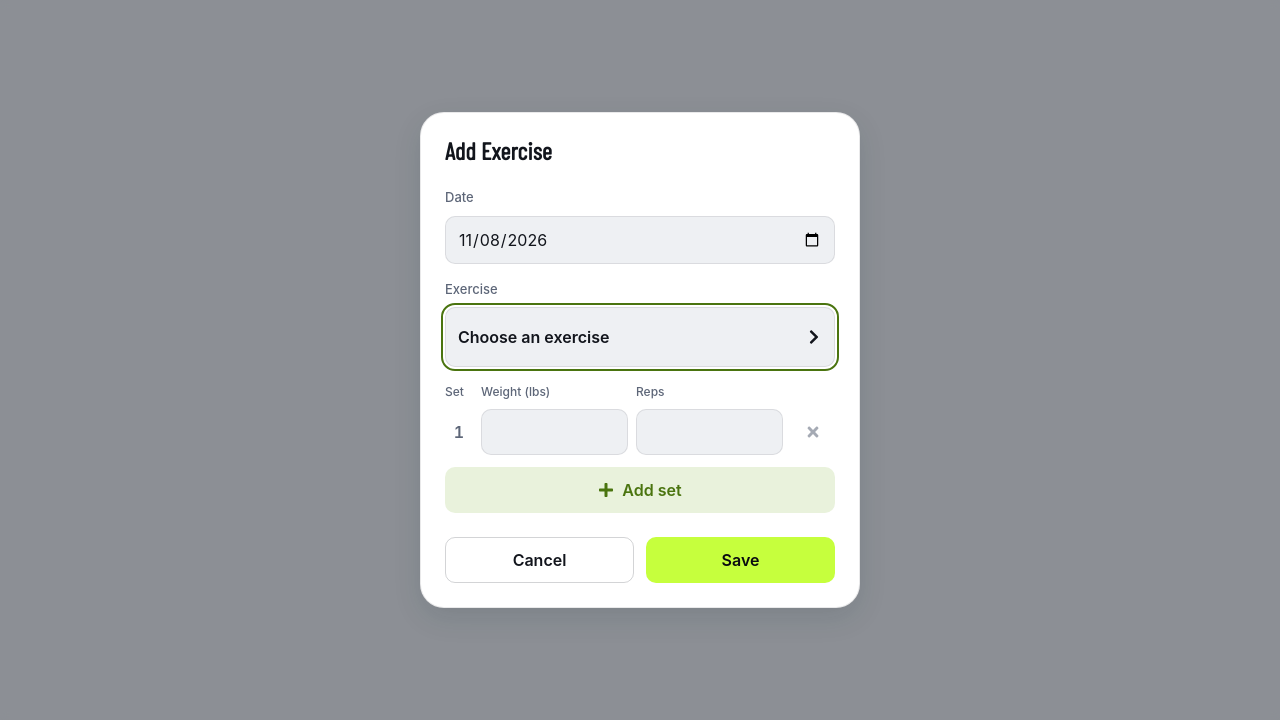
adding › only offers exercises from the list: no way to add a custom one
The image size is (1280, 720).
Click the button "Choose an exercise".
click(534, 337)  # box x1=445 y1=307 x2=835 y2=367
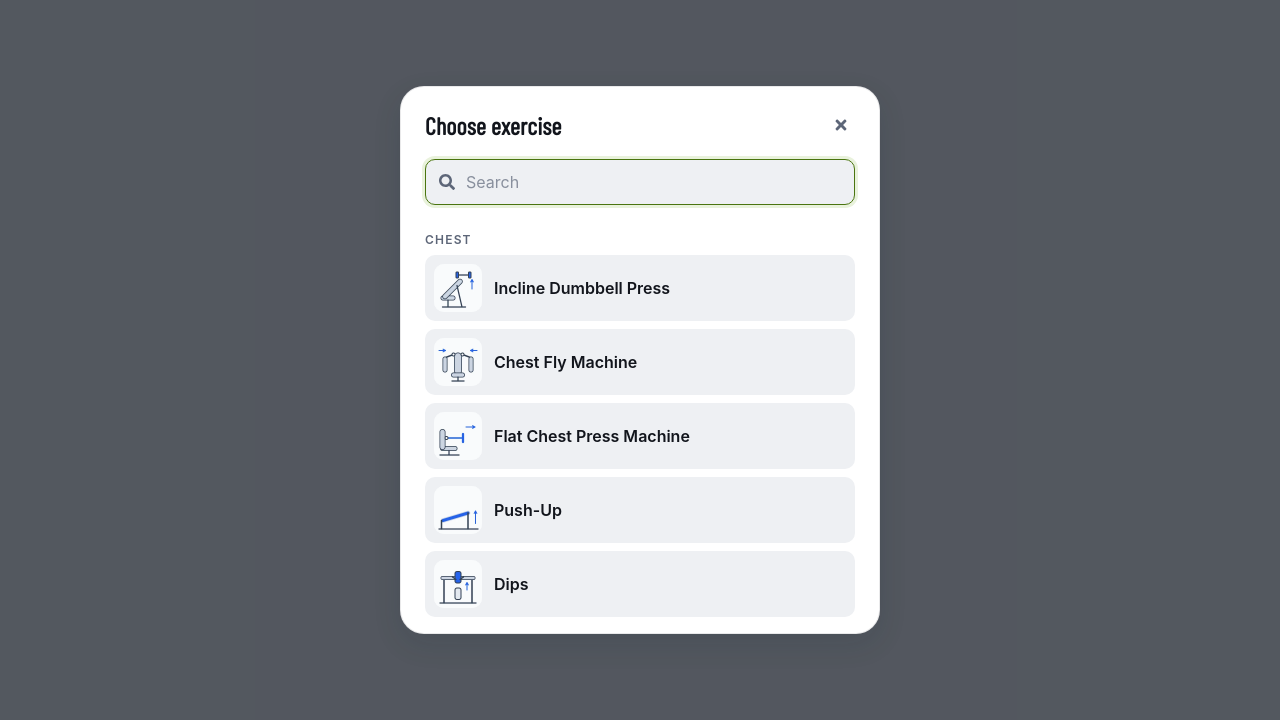
Type "Sled Push" into the search field named "search exercises".
click(640, 182); type("Sled Push")  # box x1=425 y1=159 x2=855 y2=205
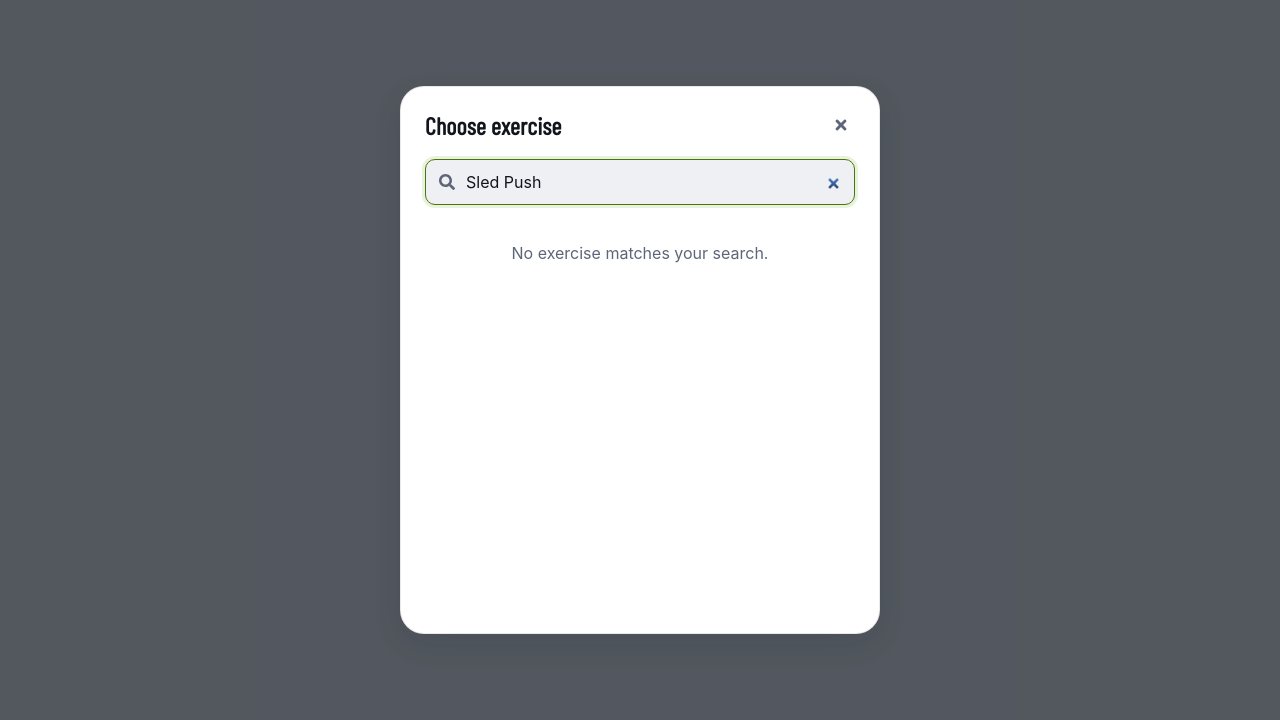
Result: the text "No exercise matches your search." is shown at x1=512 y1=243 x2=768 y2=263
